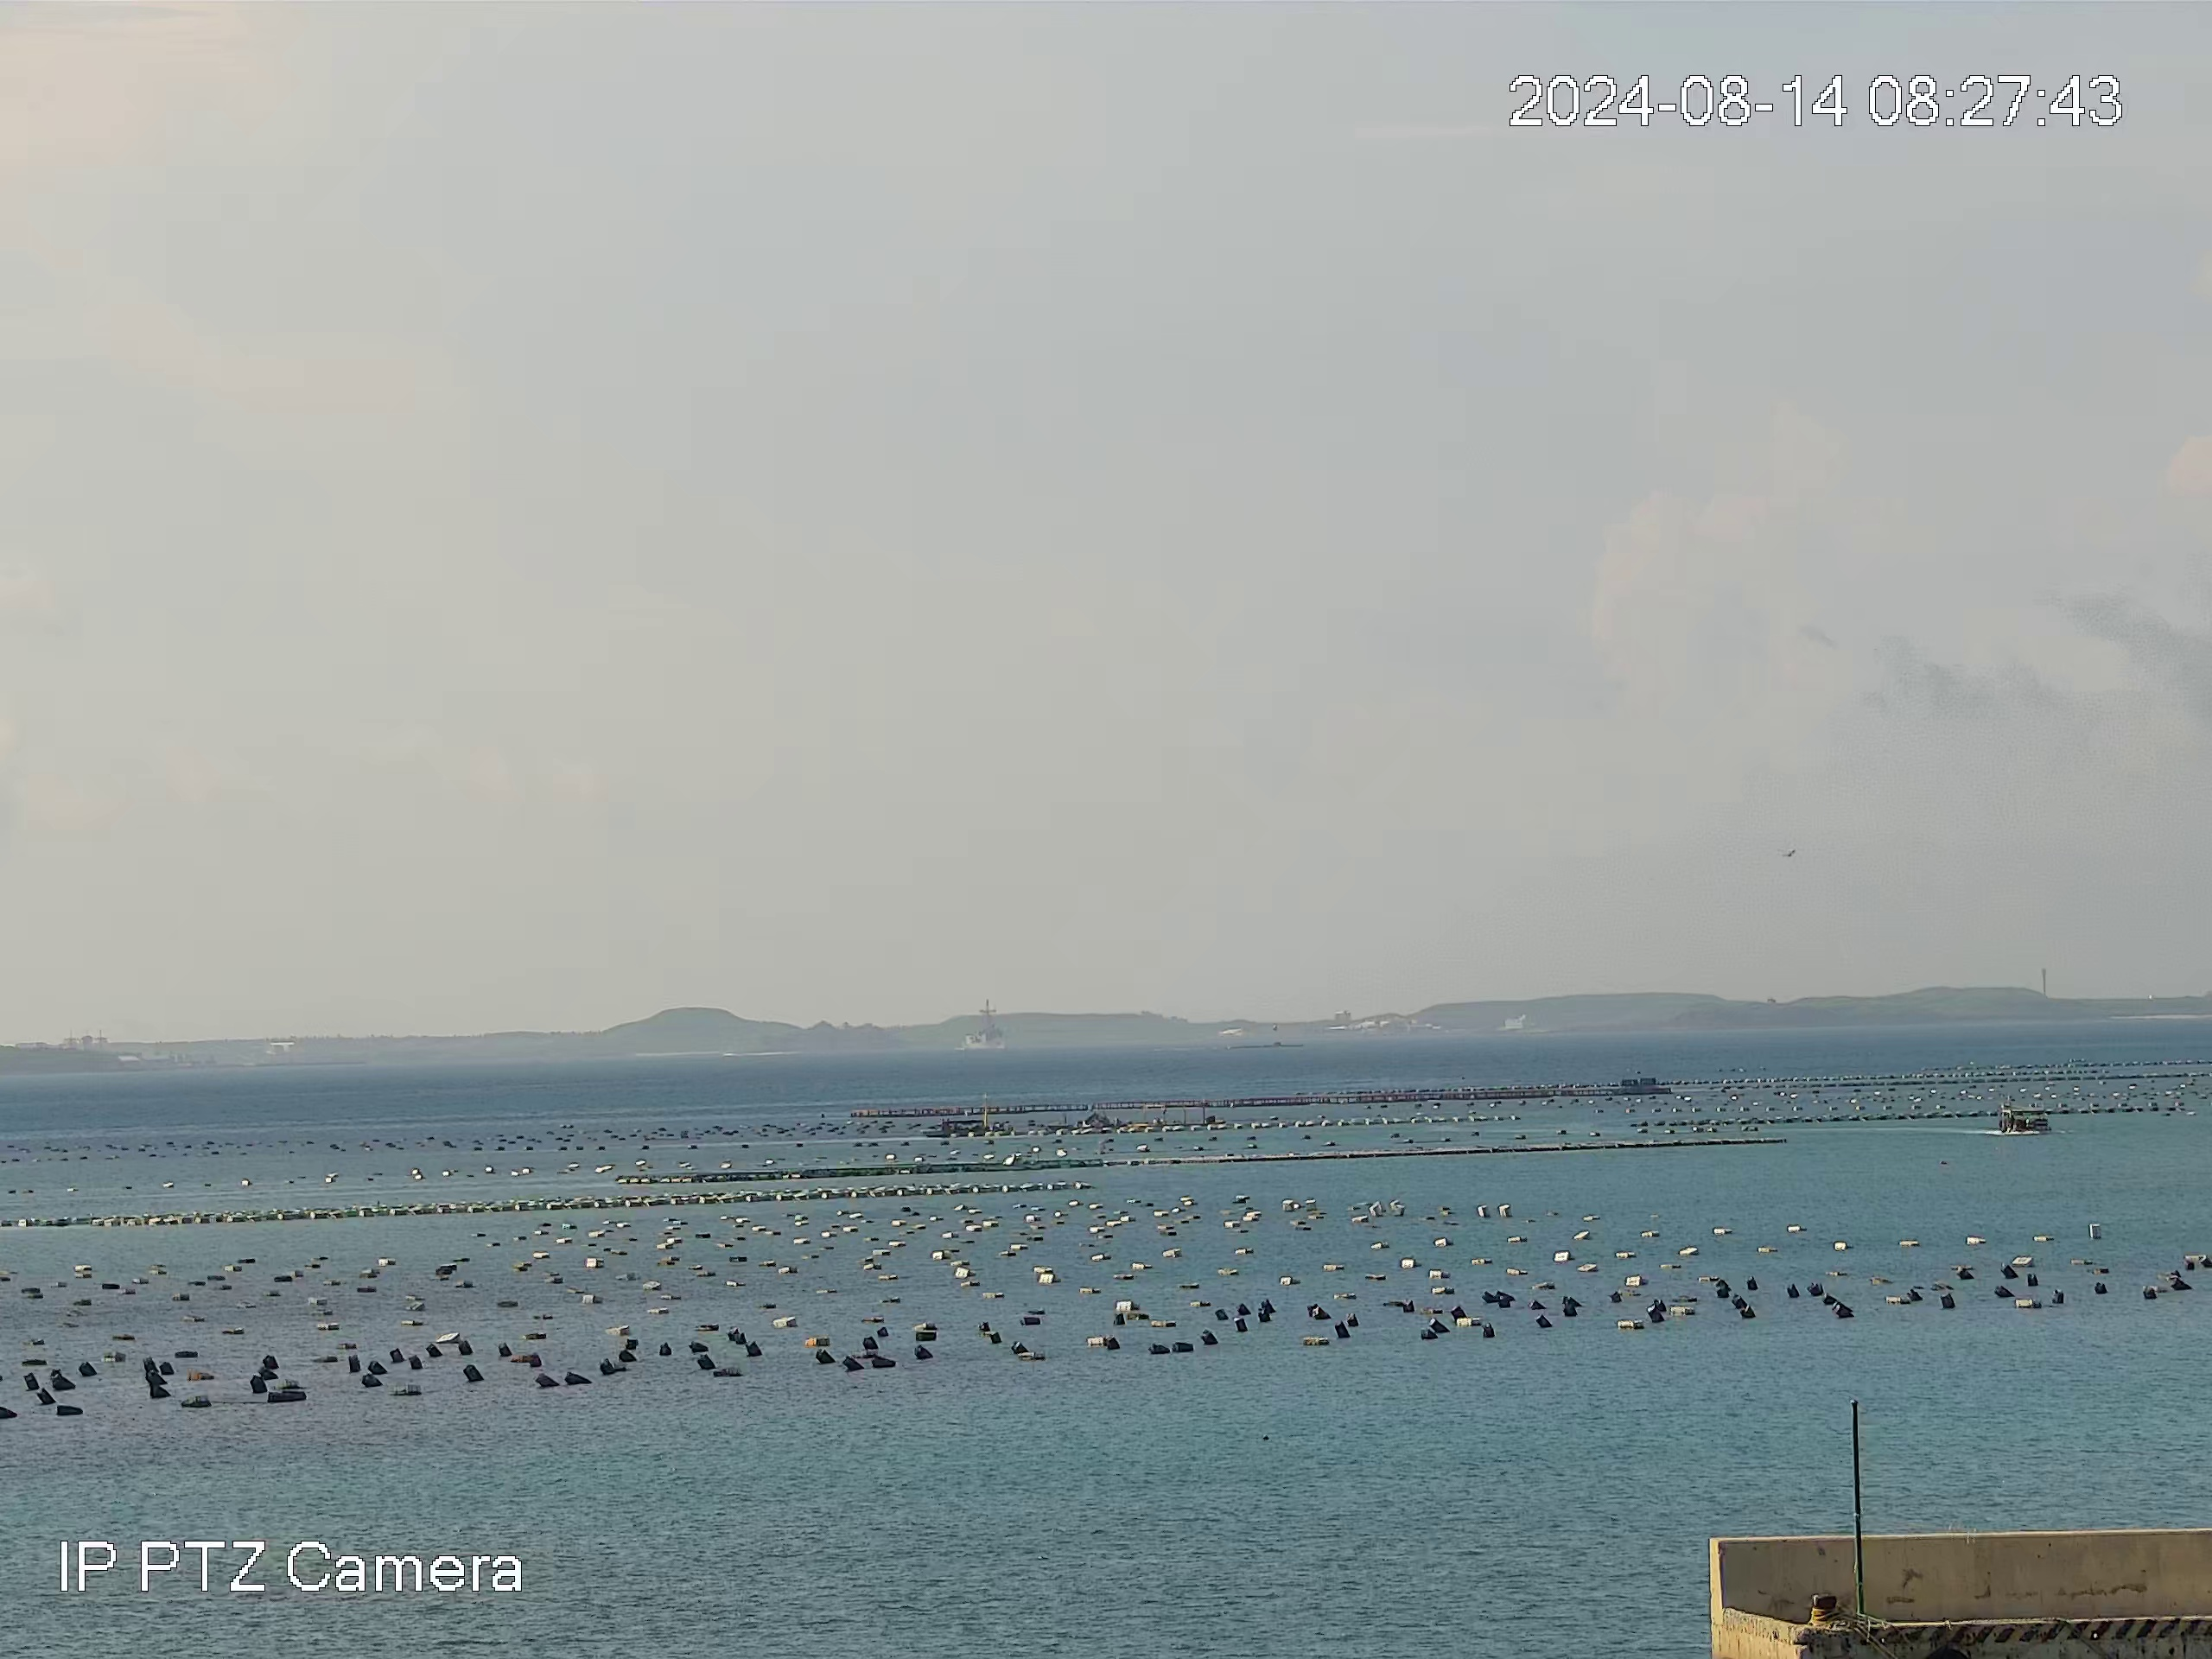boat: (1998, 1103, 2054, 1138), (921, 1119, 988, 1140)
